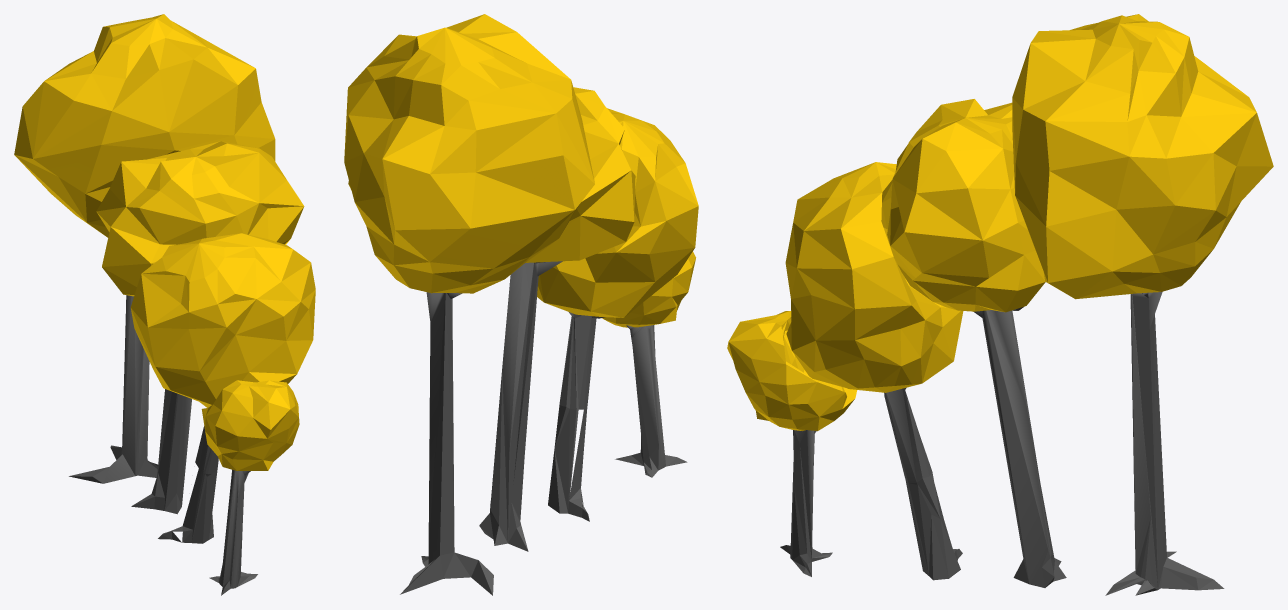
The model's file is trees.glb.
The picture shows the model from 3 angles, left to right: view 1: azimuth 30°, elevation 25°; view 2: azimuth 150°, elevation 25°; view 3: azimuth 270°, elevation 25°; orthographic projection. The views are drawn at different scales.
Visible parts, largest first — view 1: mesh1852824977, mesh1859052147, mesh1964518266, mesh423004981, mesh1258501639, mesh572954162, mesh254631149, mesh1393523726; view 2: mesh1852824977, mesh1859052147, mesh572954162, mesh1258501639, mesh1964518266, mesh254631149, mesh1393523726, mesh423004981; view 3: mesh1852824977, mesh1859052147, mesh1964518266, mesh1258501639, mesh572954162, mesh423004981, mesh254631149, mesh1393523726.
Part boxes in pixels (x1=…): mesh1852824977: x1=14, y1=14, x2=275, y2=237; mesh1859052147: x1=130, y1=233, x2=315, y2=407; mesh1964518266: x1=96, y1=141, x2=304, y2=296; mesh423004981: x1=201, y1=380, x2=299, y2=470; mesh1258501639: x1=69, y1=295, x2=157, y2=483; mesh572954162: x1=131, y1=389, x2=191, y2=514; mesh254631149: x1=158, y1=426, x2=218, y2=543; mesh1393523726: x1=209, y1=469, x2=257, y2=595; mesh1852824977: x1=344, y1=14, x2=594, y2=293; mesh1859052147: x1=537, y1=108, x2=698, y2=317; mesh572954162: x1=479, y1=261, x2=562, y2=551; mesh1258501639: x1=400, y1=292, x2=493, y2=595; mesh1964518266: x1=525, y1=87, x2=635, y2=262; mesh254631149: x1=548, y1=312, x2=604, y2=521; mesh1393523726: x1=615, y1=325, x2=687, y2=477; mesh423004981: x1=602, y1=251, x2=695, y2=327; mesh1852824977: x1=1012, y1=14, x2=1273, y2=299; mesh1859052147: x1=785, y1=162, x2=963, y2=392; mesh1964518266: x1=887, y1=99, x2=1045, y2=312; mesh1258501639: x1=1105, y1=292, x2=1224, y2=595; mesh572954162: x1=973, y1=307, x2=1066, y2=587; mesh423004981: x1=727, y1=311, x2=857, y2=431; mesh254631149: x1=884, y1=387, x2=962, y2=580; mesh1393523726: x1=780, y1=430, x2=832, y2=576.
Size of the model in its own units: 1.51 by 3.04 by 2.66.
